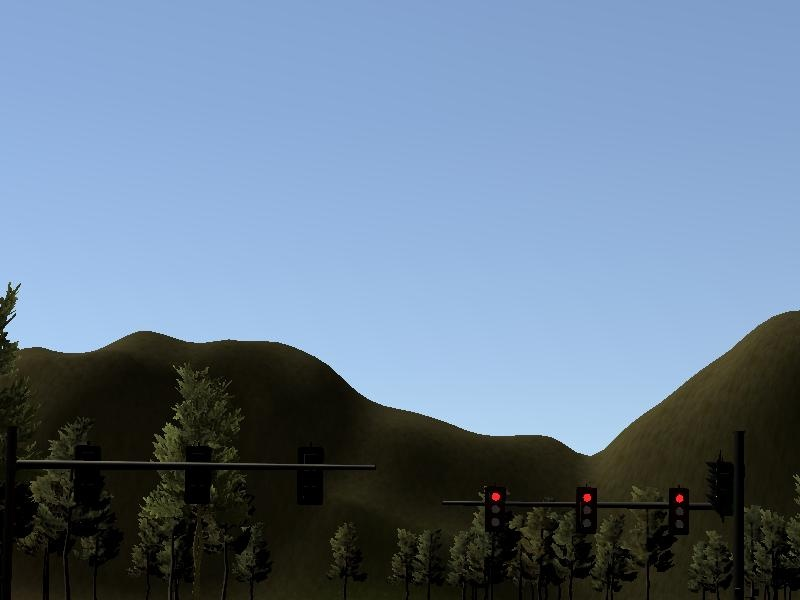red: (668, 488, 691, 537), (577, 488, 598, 535), (488, 487, 505, 534)
